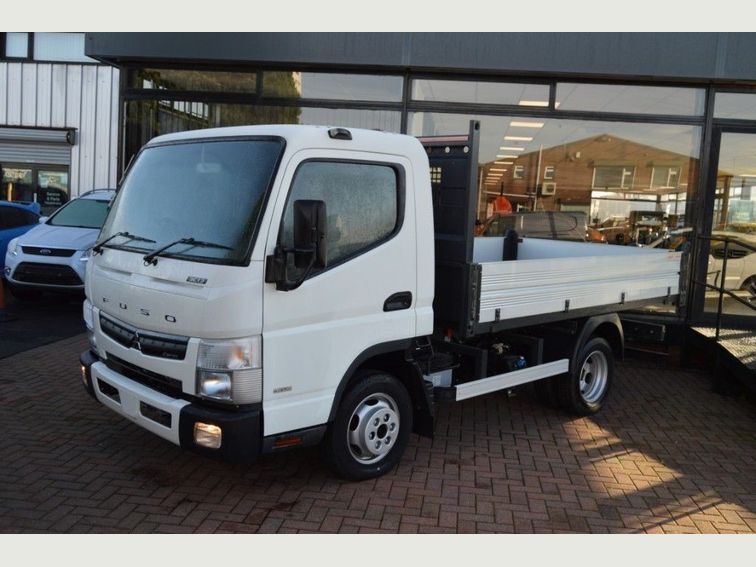Car: (6, 190, 122, 290)
Semi: (83, 120, 684, 482)
